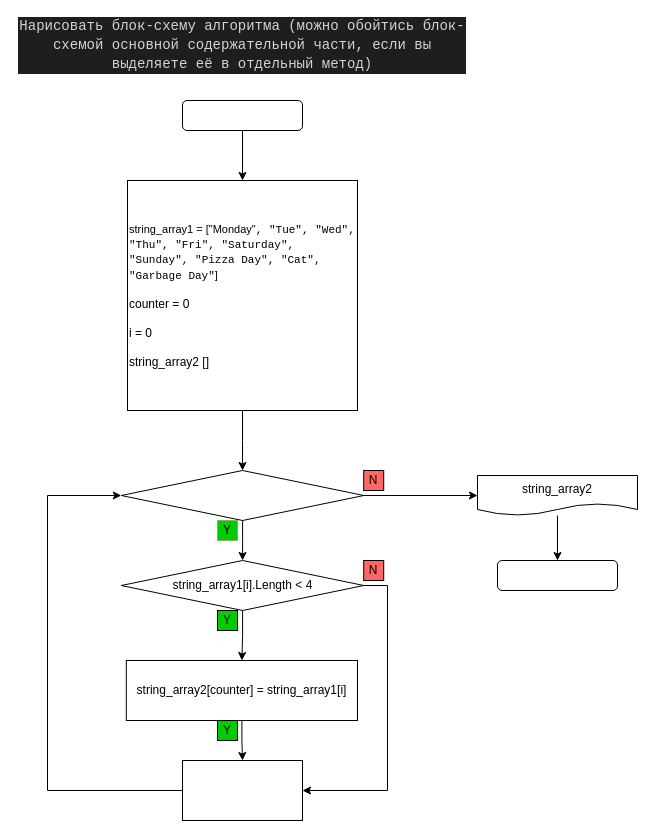
Some shapes in this 655 by 838 pixel diagram are drawn without their labels. Each missing label, with the centre of its shape:
finish: [557,575]
i < string_array1.Length: [242,495]
i = i + 1 counter = counter + 1: [242,790]
start: [242,115]
